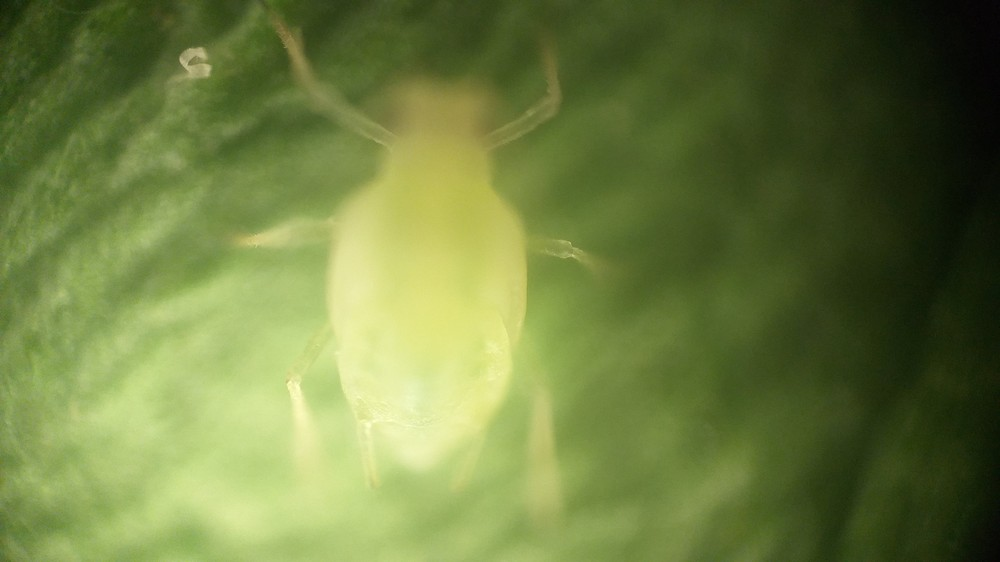Pulgon: (240, 41, 628, 531)
